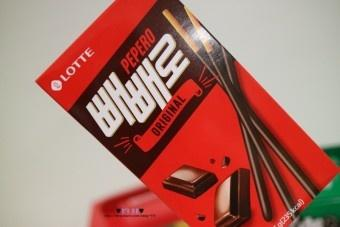snack: (35, 0, 340, 227)
